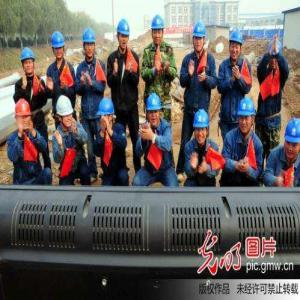blue: (238, 97, 256, 136), (283, 120, 300, 159), (193, 110, 211, 145), (99, 98, 115, 133), (51, 29, 67, 62), (116, 17, 131, 51), (229, 28, 244, 62), (147, 95, 162, 127), (21, 47, 36, 78), (82, 29, 97, 60), (192, 22, 207, 53), (269, 40, 282, 70), (152, 15, 164, 46)
red: (14, 99, 35, 135)
white: (56, 94, 75, 128)
